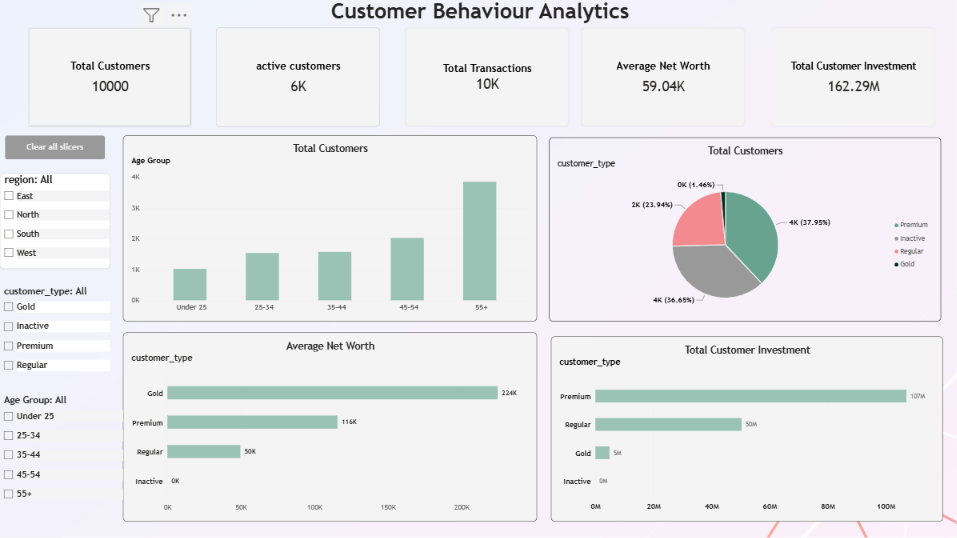

Layout of this report page (visuals, bound fields, positions):
{"tool":"powerbi","page":{"name":"Customer Behaviour Analytics","canvas":[1920,1080],"ordinal":1},"visuals":[{"type":"cardVisual","fields":{"Data":["bank_features.Total Customers"]},"box":[56,58,327.5,199.1],"z":0},{"type":"cardVisual","fields":{"Data":["transaction_cleaned.active customers"]},"box":[432,58,328,199],"z":1000},{"type":"cardVisual","fields":{"Data":["transaction_cleaned.Total Transactions"]},"box":[810,58,328,199],"z":2000},{"type":"cardVisual","fields":{"Data":["bank_features.Average Net Worth"]},"box":[1162,58,328,199],"z":3000},{"type":"cardVisual","fields":{"Data":["customer_features.Total Customer Investment"]},"box":[1542,58,328,199],"z":4000},{"type":"pieChart","title":"Total Customers","fields":{"Category":["customer_features.customer_type"],"Y":["bank_features.Total Customers"]},"box":[1098,278,784,368],"z":5000},{"type":"clusteredColumnChart","title":"Total Customers ","fields":{"Category":["customer_features.Age Group"],"Y":["bank_features.Total Customers"]},"box":[246,274,828,372],"z":6000},{"type":"barChart","title":"Average Net Worth","fields":{"Category":["customer_features.customer_type"],"Y":["bank_features.Average Net Worth"]},"box":[246,668,828,378],"z":7000},{"type":"textbox","box":[0,0,1920,58],"z":8000},{"type":"slicer","fields":{"Values":["customer_features.region"]},"box":[0,350,220,190],"z":9000},{"type":"actionButton","box":[10,274,200,48],"z":10000},{"type":"slicer","fields":{"Values":["customer_features.customer_type"]},"box":[0,574,220,190],"z":11000},{"type":"slicer","fields":{"Values":["customer_features.Age Group"]},"box":[0,792,246,222],"z":12000},{"type":"clusteredBarChart","title":"Total Customer Investment ","fields":{"Category":["customer_features.customer_type"],"Y":["customer_features.Total Customer Investment"]},"box":[1102,676,784,370],"z":13000}]}

Visuals, with their boxes in screenshot pixels (x1, y1, x2, y2), scaled from the page's 1920x1080 canvas onto the 957x538 screenshot:
cardVisual - bank_features.Total Customers: [x1=28, y1=29, x2=191, y2=128]
cardVisual - transaction_cleaned.active customers: [x1=215, y1=29, x2=379, y2=128]
cardVisual - transaction_cleaned.Total Transactions: [x1=404, y1=29, x2=567, y2=128]
cardVisual - bank_features.Average Net Worth: [x1=579, y1=29, x2=743, y2=128]
cardVisual - customer_features.Total Customer Investment: [x1=769, y1=29, x2=932, y2=128]
"Total Customers" pieChart: [x1=547, y1=138, x2=938, y2=322]
"Total Customers " clusteredColumnChart: [x1=123, y1=136, x2=535, y2=322]
"Average Net Worth" barChart: [x1=123, y1=333, x2=535, y2=521]
textbox: [x1=0, y1=0, x2=956, y2=29]
slicer - customer_features.region: [x1=0, y1=174, x2=110, y2=269]
actionButton: [x1=5, y1=136, x2=105, y2=160]
slicer - customer_features.customer_type: [x1=0, y1=286, x2=110, y2=381]
slicer - customer_features.Age Group: [x1=0, y1=395, x2=123, y2=505]
"Total Customer Investment " clusteredBarChart: [x1=549, y1=337, x2=940, y2=521]
